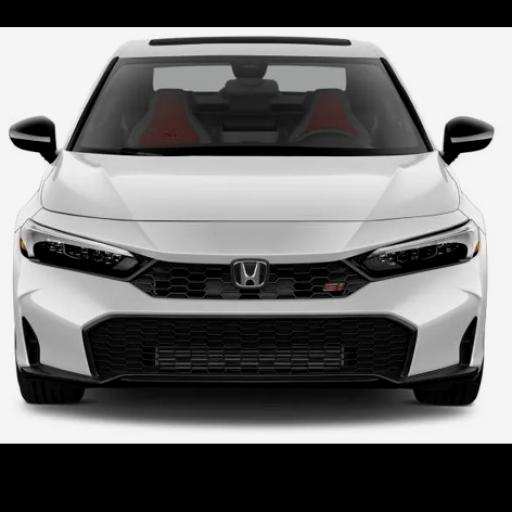hatchback: (9, 37, 491, 402)
